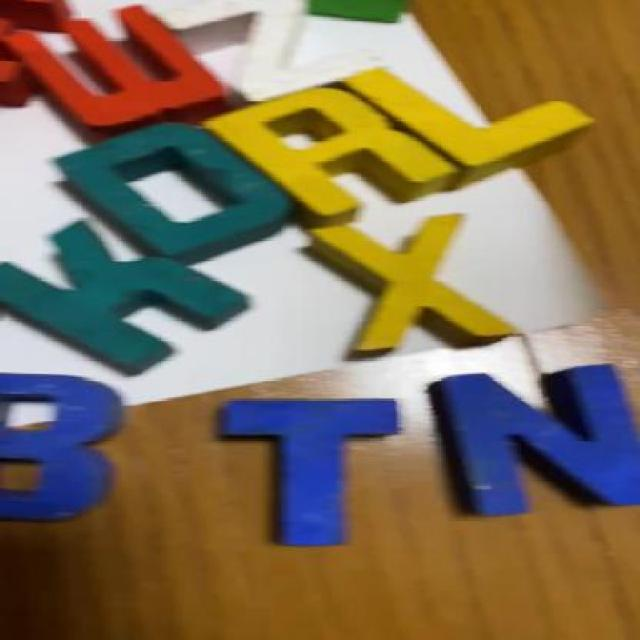D: (48, 115, 304, 272)
K: (5, 224, 247, 376)
L: (333, 67, 618, 185)
N: (446, 364, 640, 513)
R: (192, 86, 470, 228)
T: (224, 403, 404, 554)
W: (16, 10, 236, 124)
X: (304, 217, 513, 360)
